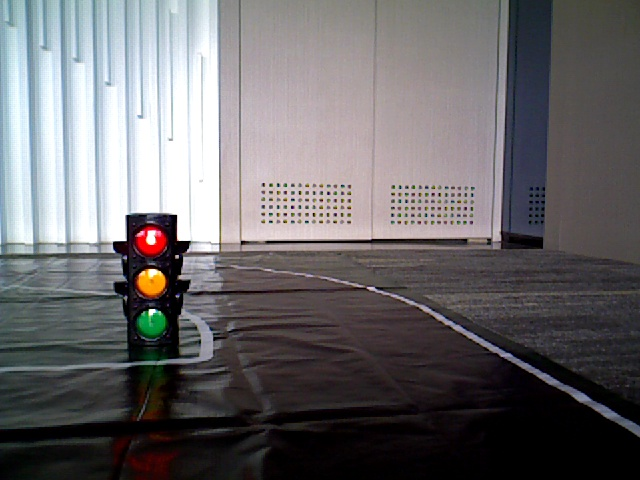red: (128, 215, 176, 349)
